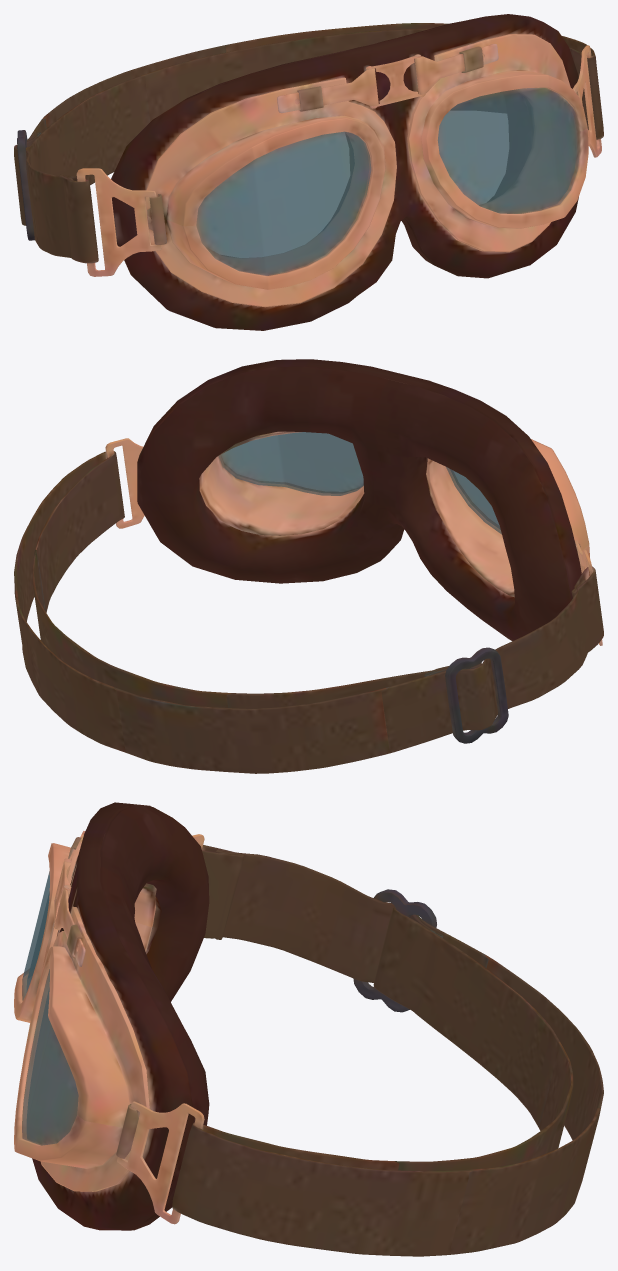
Rendered from wear-goggles.glb.
The picture shows the model from 3 angles, top to bottom: view 1: azimuth 30°, elevation 25°; view 2: azimuth 150°, elevation 25°; view 3: azimuth 270°, elevation 25°; orthographic projection. The views are drawn at different scales.
Visible parts, largest first — view 1: piece.009, piece.008, piece.010, Vert.002, piece.007, Plane.004, piece.006, Plane.005, Plane.006, piece.011; view 2: piece.008, Vert.002, piece.009, piece.010, Plane.006, piece.007; view 3: Vert.002, piece.008, piece.009, piece.010, piece.007, Plane.006, Plane.004, piece.011.
Part boxes in pixels (x1,y1,x2,y2): piece.009: (145, 34, 588, 307); piece.008: (111, 14, 578, 330); piece.010: (196, 87, 580, 275); Vert.002: (14, 23, 603, 263); piece.007: (76, 45, 601, 276); Plane.004: (277, 43, 498, 113); piece.006: (366, 54, 425, 108); Plane.005: (297, 46, 483, 111); Plane.006: (17, 130, 34, 240); piece.011: (147, 93, 578, 244); piece.008: (137, 359, 581, 640); Vert.002: (14, 451, 603, 773); piece.009: (199, 431, 589, 597); piece.010: (218, 432, 501, 534); Plane.006: (445, 647, 508, 743); piece.007: (105, 438, 602, 645); Vert.002: (172, 845, 603, 1256); piece.008: (32, 802, 209, 1230); piece.009: (14, 833, 156, 1191); piece.010: (22, 871, 78, 1145); piece.007: (117, 834, 204, 1224); Plane.006: (353, 889, 436, 1012); Plane.004: (54, 831, 85, 966); piece.011: (116, 1104, 138, 1158).
Size of the model in its own units: 1734 by 787 by 1456.
1 material, 1 textured.
